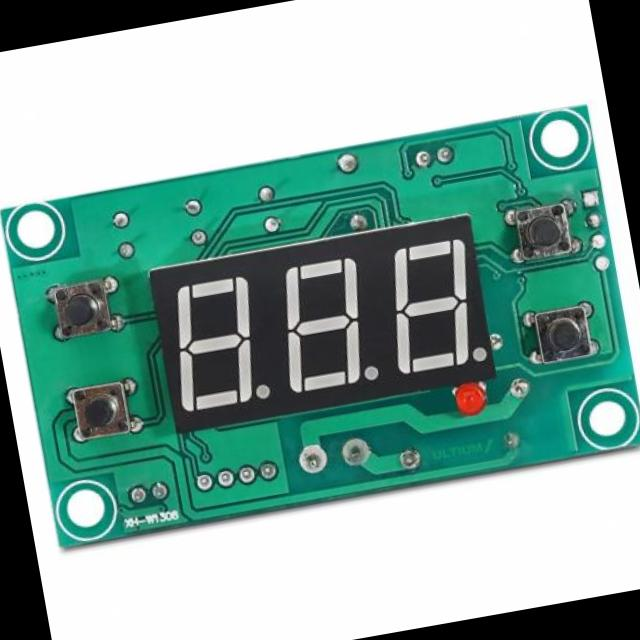LED: (454, 376, 492, 421)
